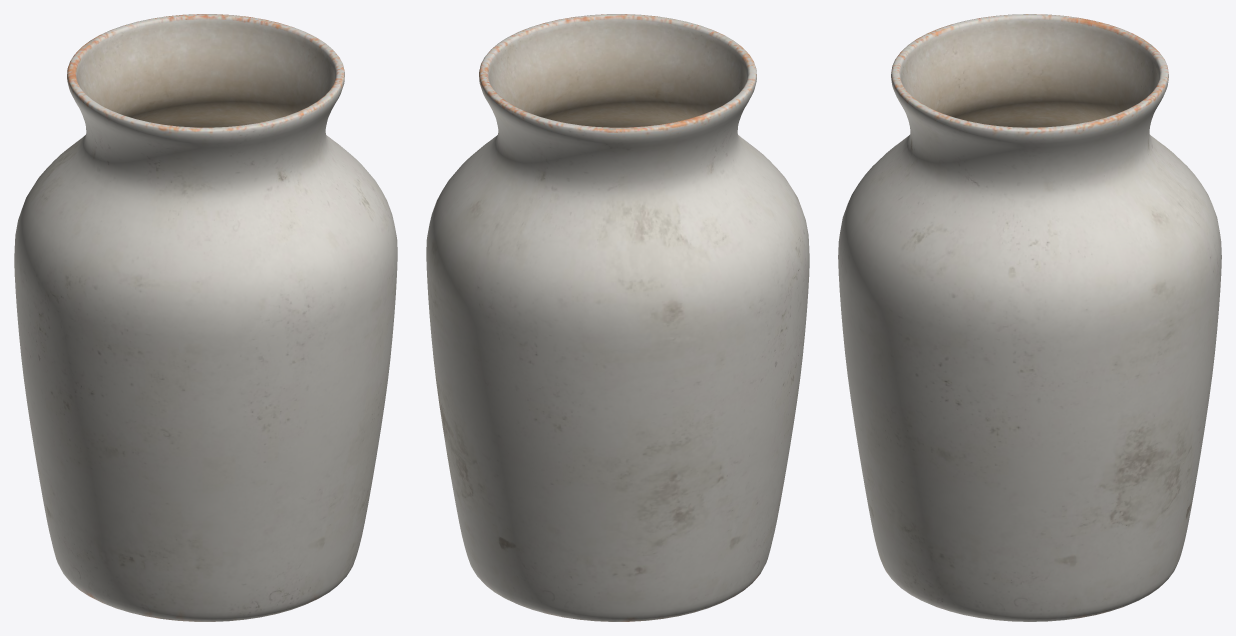
File: Jarron_CeramicaBlanca-v1.glb
3 renders of one model, left to right at view 1: azimuth 30°, elevation 25°; view 2: azimuth 150°, elevation 25°; view 3: azimuth 270°, elevation 25°, orthographic.
Visible parts, largest first — view 1: ceramic_vase_02; view 2: ceramic_vase_02; view 3: ceramic_vase_02.
Part boxes in pixels (<box>): ceramic_vase_02: <box>14,14,397,621</box>; ceramic_vase_02: <box>426,14,809,621</box>; ceramic_vase_02: <box>838,14,1221,621</box>.
Size of the model in its own units: 0.2184 by 0.3092 by 0.2184.
1 material, 1 textured.
